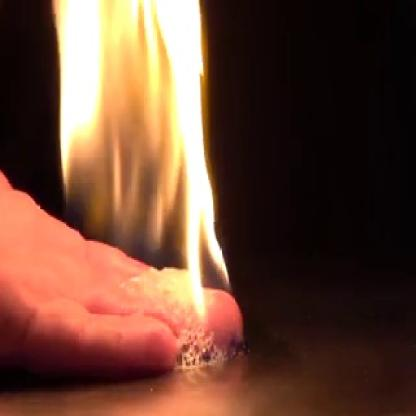fire: (42, 0, 233, 333)
